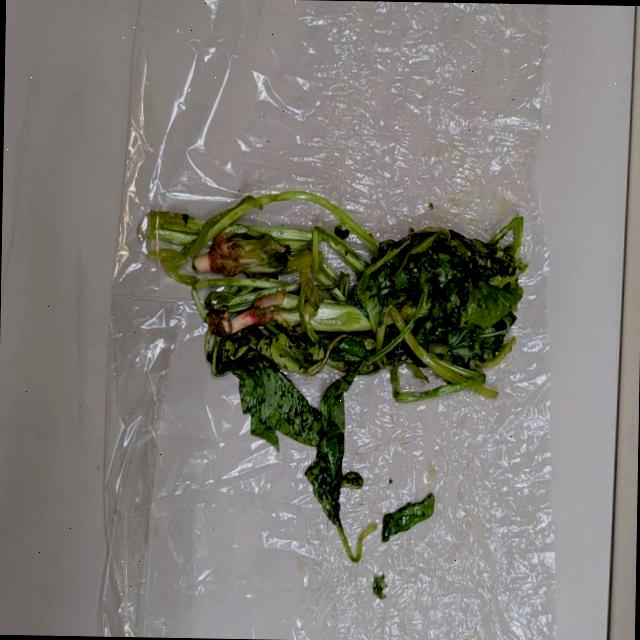rotten spinach: (142, 173, 530, 550), (300, 192, 516, 555), (132, 168, 340, 408), (293, 218, 452, 451)
